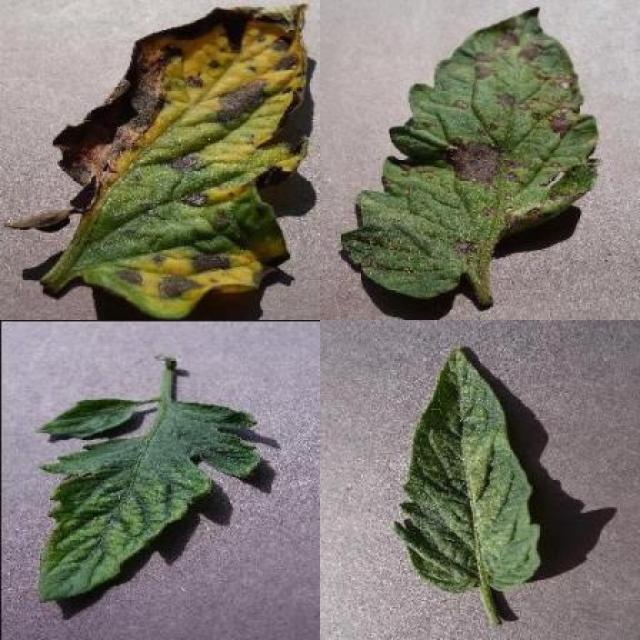Early Blight: (50, 1, 309, 320), (343, 3, 600, 300)
Mosaic Virus: (34, 395, 264, 605)
Spider Mites: (394, 348, 544, 596)
